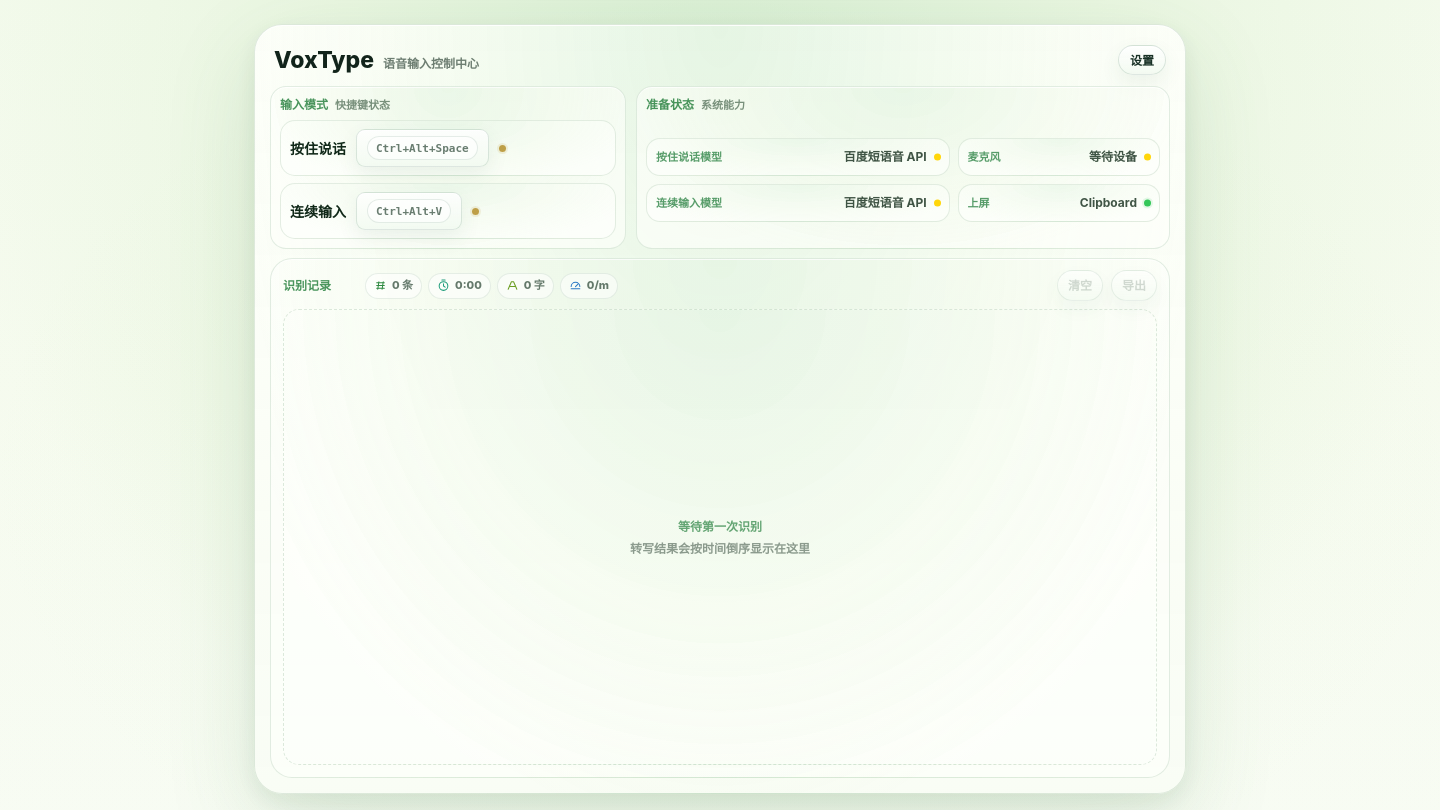
Test: App › opens hotkey settings from main hotkey pills
Click the button "Ctrl+Alt+Space" at (422, 148), box 356,129 -> 489,167
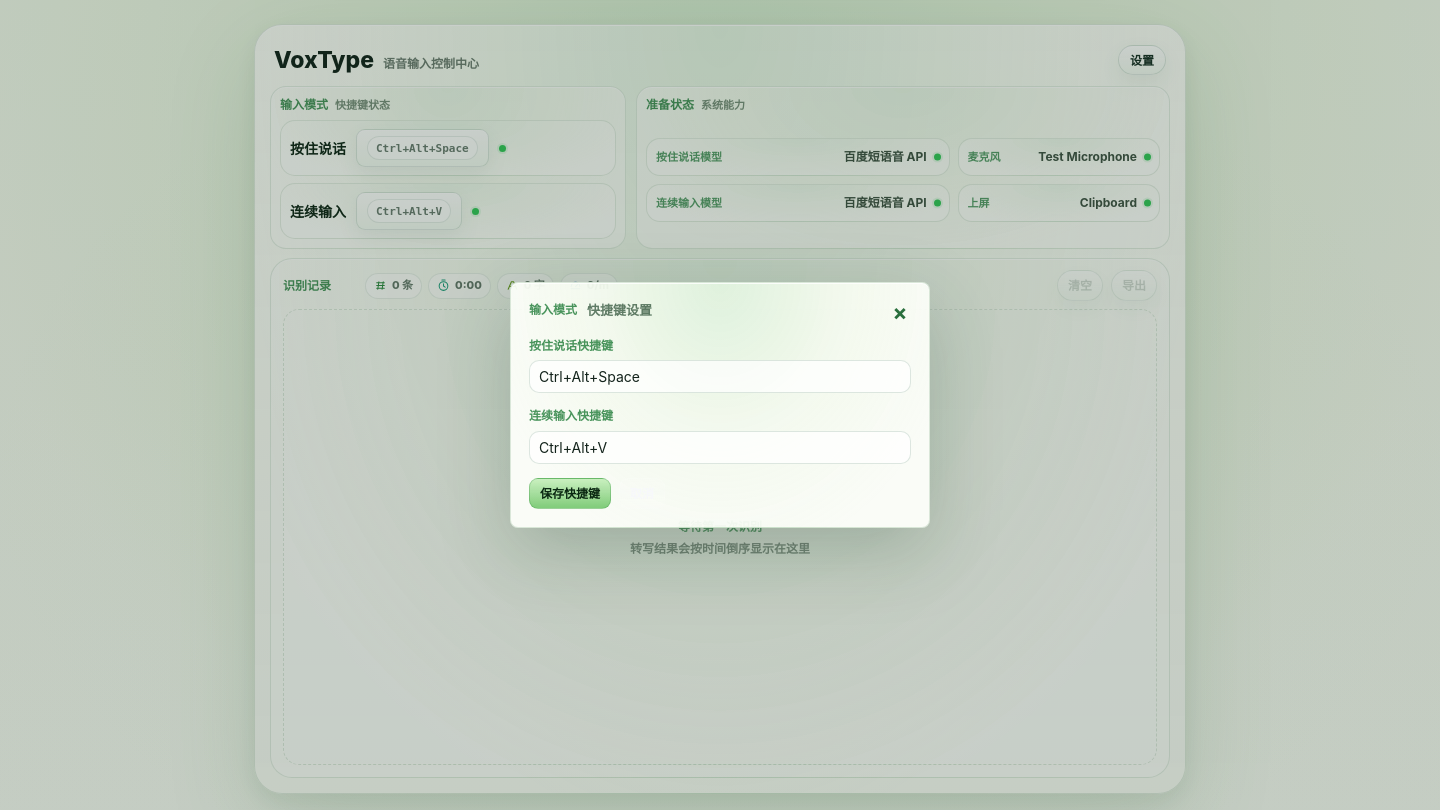
Expected: the dialog "快捷键设置" is shown, 510,282 -> 930,528
